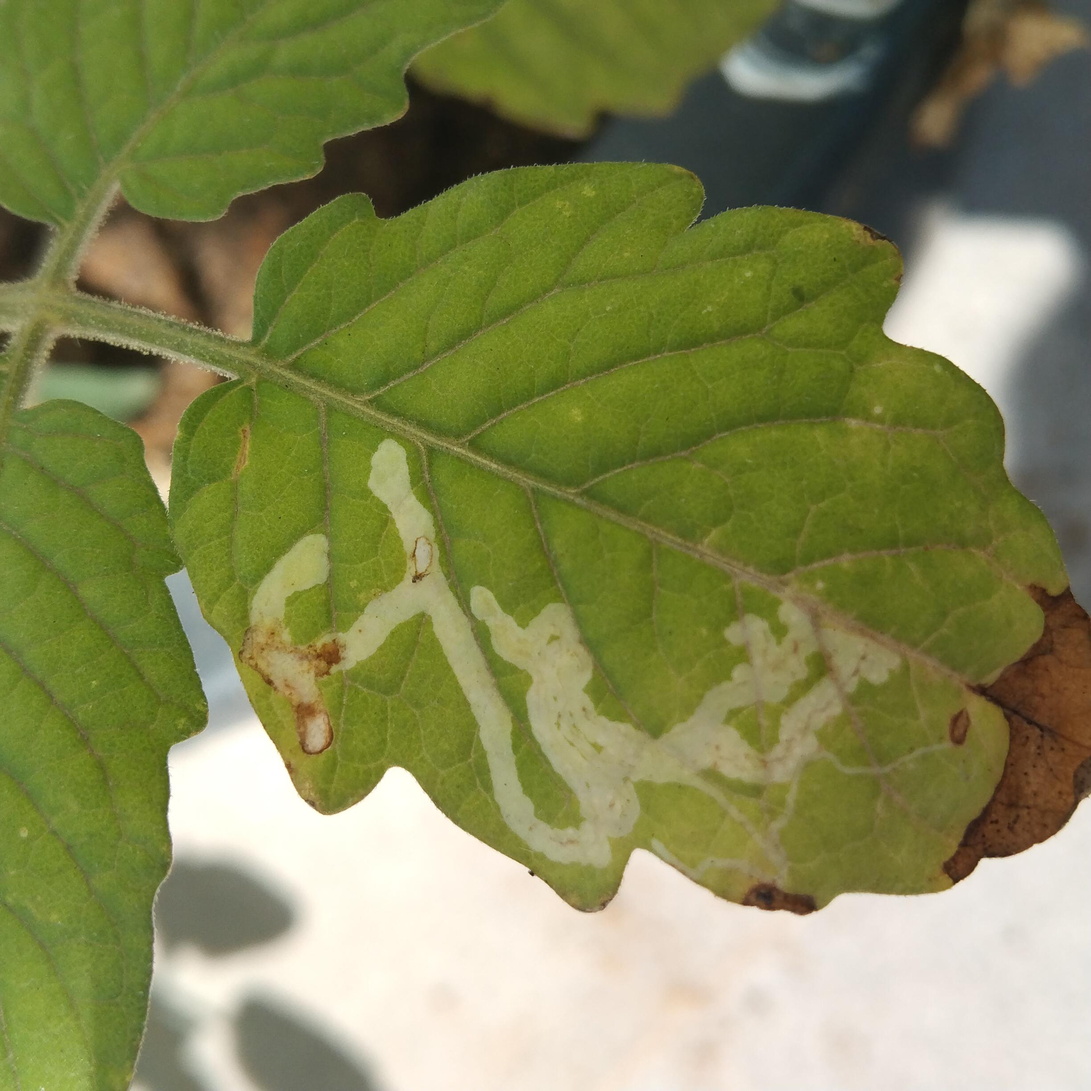Leaf_Miner: (174, 160, 934, 1091)
